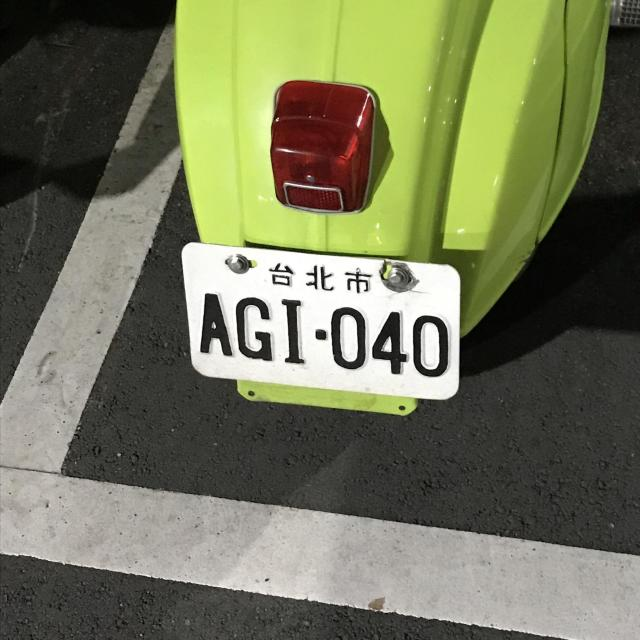W: (173, 232, 472, 411)
